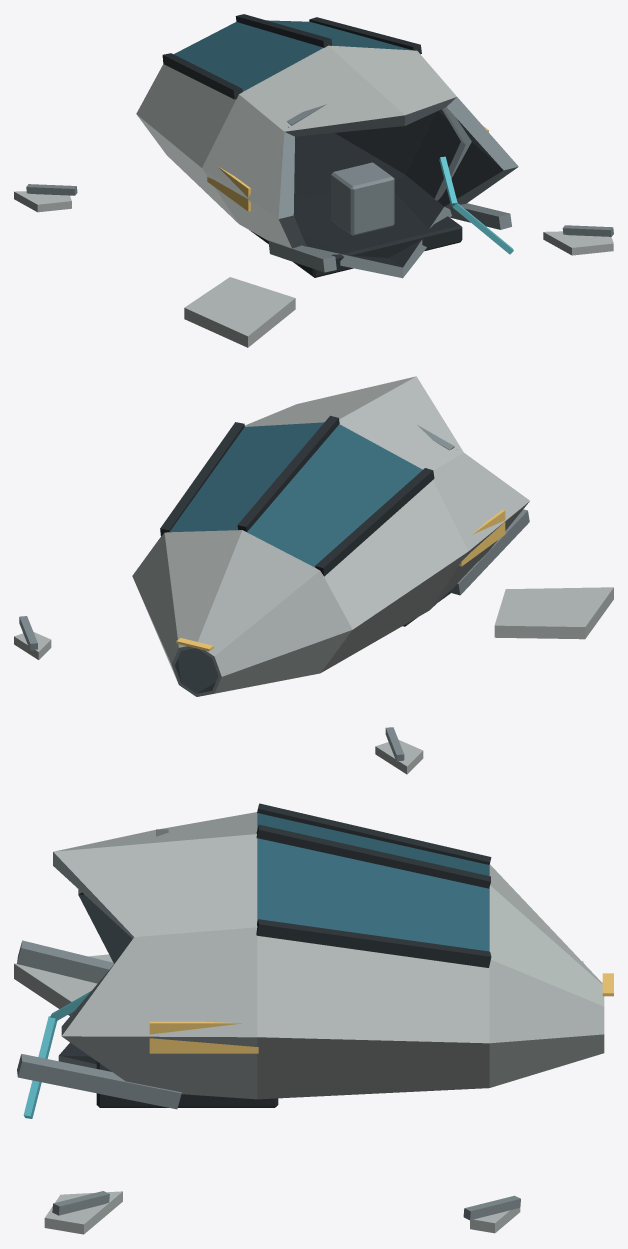
Rendered from debris-cockpit.glb.
The picture shows the model from 3 angles, top to bottom: view 1: azimuth 30°, elevation 25°; view 2: azimuth 150°, elevation 25°; view 3: azimuth 270°, elevation 25°; orthographic projection. The views are drawn at different scales.
Visible parts, largest first — view 1: debris-cockpit / Survey ship ivory armor, debris-cockpit / Scorched graphite interiors, debris-cockpit / Exposed survey ship frame, debris-cockpit / Opaque fractured cockpit glazing, debris-cockpit / Survey ship cyan service lines, debris-cockpit / Survey ship gold identification; view 2: debris-cockpit / Survey ship ivory armor, debris-cockpit / Opaque fractured cockpit glazing, debris-cockpit / Scorched graphite interiors, debris-cockpit / Exposed survey ship frame, debris-cockpit / Survey ship gold identification; view 3: debris-cockpit / Survey ship ivory armor, debris-cockpit / Opaque fractured cockpit glazing, debris-cockpit / Scorched graphite interiors, debris-cockpit / Exposed survey ship frame, debris-cockpit / Survey ship gold identification, debris-cockpit / Survey ship cyan service lines.
Boxes of the visible parts, left/top/right/bottom form: debris-cockpit / Survey ship ivory armor: left=14, top=45, right=613, bottom=347; debris-cockpit / Scorched graphite interiors: left=162, top=14, right=503, bottom=277; debris-cockpit / Exposed survey ship frame: left=26, top=97, right=613, bottom=278; debris-cockpit / Opaque fractured cockpit glazing: left=174, top=20, right=411, bottom=91; debris-cockpit / Survey ship cyan service lines: left=439, top=156, right=513, bottom=254; debris-cockpit / Survey ship gold identification: left=207, top=126, right=488, bottom=211; debris-cockpit / Survey ship ivory armor: left=14, top=376, right=613, bottom=774; debris-cockpit / Opaque fractured cockpit glazing: left=170, top=422, right=422, bottom=567; debris-cockpit / Scorched graphite interiors: left=160, top=415, right=450, bottom=693; debris-cockpit / Exposed survey ship frame: left=19, top=425, right=529, bottom=761; debris-cockpit / Survey ship gold identification: left=176, top=509, right=505, bottom=651; debris-cockpit / Survey ship ivory armor: left=14, top=812, right=604, bottom=1234; debris-cockpit / Opaque fractured cockpit glazing: left=257, top=813, right=489, bottom=951; debris-cockpit / Scorched graphite interiors: left=59, top=803, right=491, bottom=1107; debris-cockpit / Exposed survey ship frame: left=17, top=829, right=520, bottom=1220; debris-cockpit / Survey ship gold identification: left=149, top=973, right=613, bottom=1053; debris-cockpit / Survey ship cyan service lines: left=23, top=991, right=90, bottom=1118.
Size of the model in its own units: 2.24 by 1.06 by 2.14.
